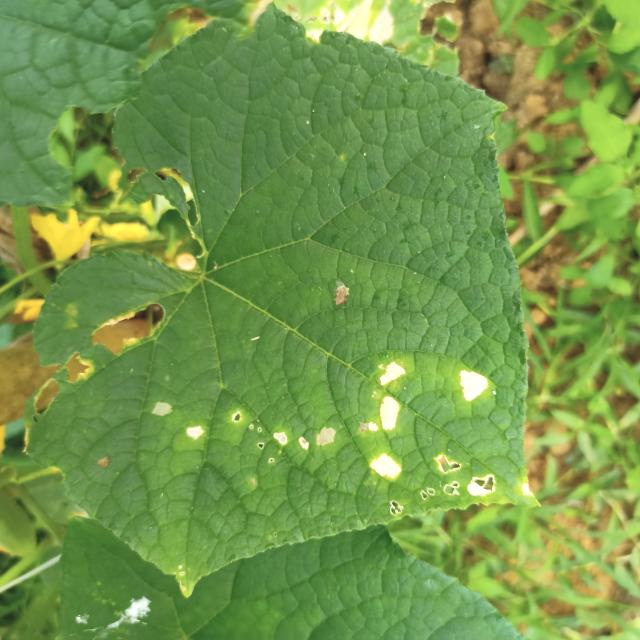disease_cucumber: (347, 344, 532, 504), (154, 380, 339, 497)
